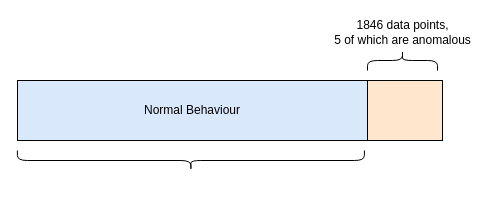
The diagram is 495 pixels wide and 207 high, and some of its shapes have lost their labels. Here are the shapes that lost their labels. From the top down, the centre of each, then its label:
At [404,110]: "Normal and Anomalous Behaviour".
At [190,160]: "10000 data points".
